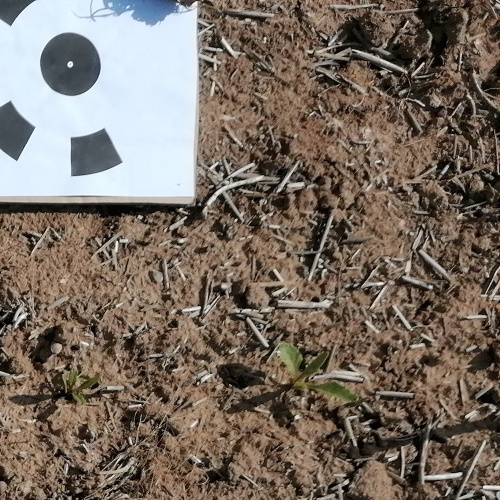beet: (280, 339, 362, 404), (60, 366, 102, 403)
